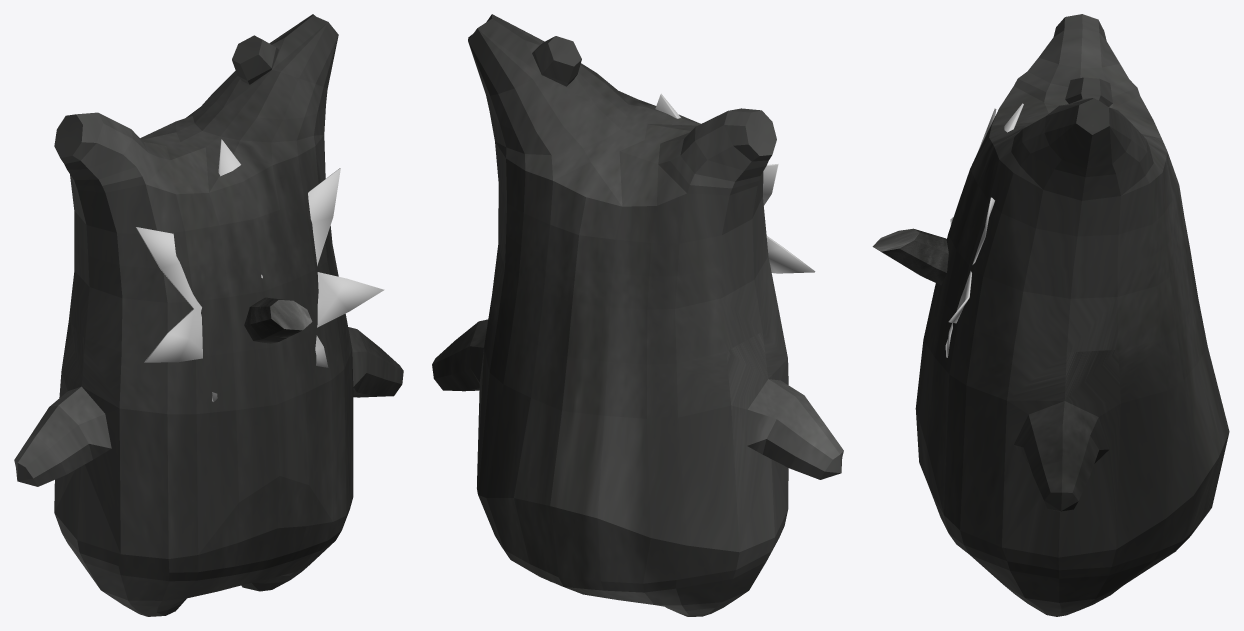
Rendered from frame_0002.obj.
3 renders of one model, left to right at view 1: azimuth 30°, elevation 25°; view 2: azimuth 150°, elevation 25°; view 3: azimuth 270°, elevation 25°, orthographic. The views are drawn at different scales.
Parts seen in each view (by area): view 1: korok, leaf, nose; view 2: korok, leaf; view 3: korok, nose, leaf.
Boxes of the visible parts, bbox=[...] form: korok: bbox=[14, 14, 403, 616]; leaf: bbox=[135, 139, 384, 401]; nose: bbox=[244, 297, 312, 343]; korok: bbox=[432, 14, 843, 616]; leaf: bbox=[655, 93, 815, 273]; korok: bbox=[915, 14, 1229, 616]; nose: bbox=[872, 228, 948, 285]; leaf: bbox=[945, 103, 1023, 357].
Size of the model in its own units: 1.68 by 2.25 by 1.33.
